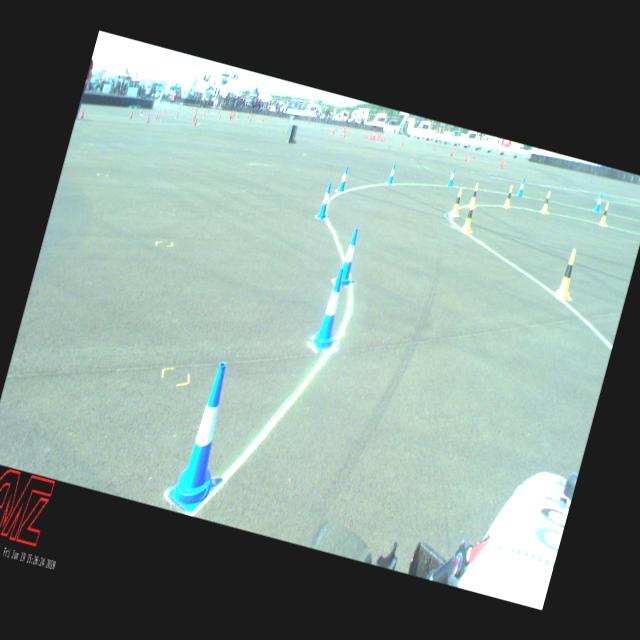blue_cone: (164, 356, 246, 516), (311, 265, 352, 351), (334, 226, 364, 288), (316, 182, 334, 219), (338, 166, 350, 192), (387, 163, 397, 184), (594, 192, 604, 212), (516, 178, 526, 197), (448, 168, 456, 186)
yellow_cone: (555, 248, 580, 300), (461, 198, 477, 232), (451, 188, 464, 216), (598, 202, 610, 226), (468, 182, 479, 208), (540, 190, 552, 212), (503, 185, 514, 208)
